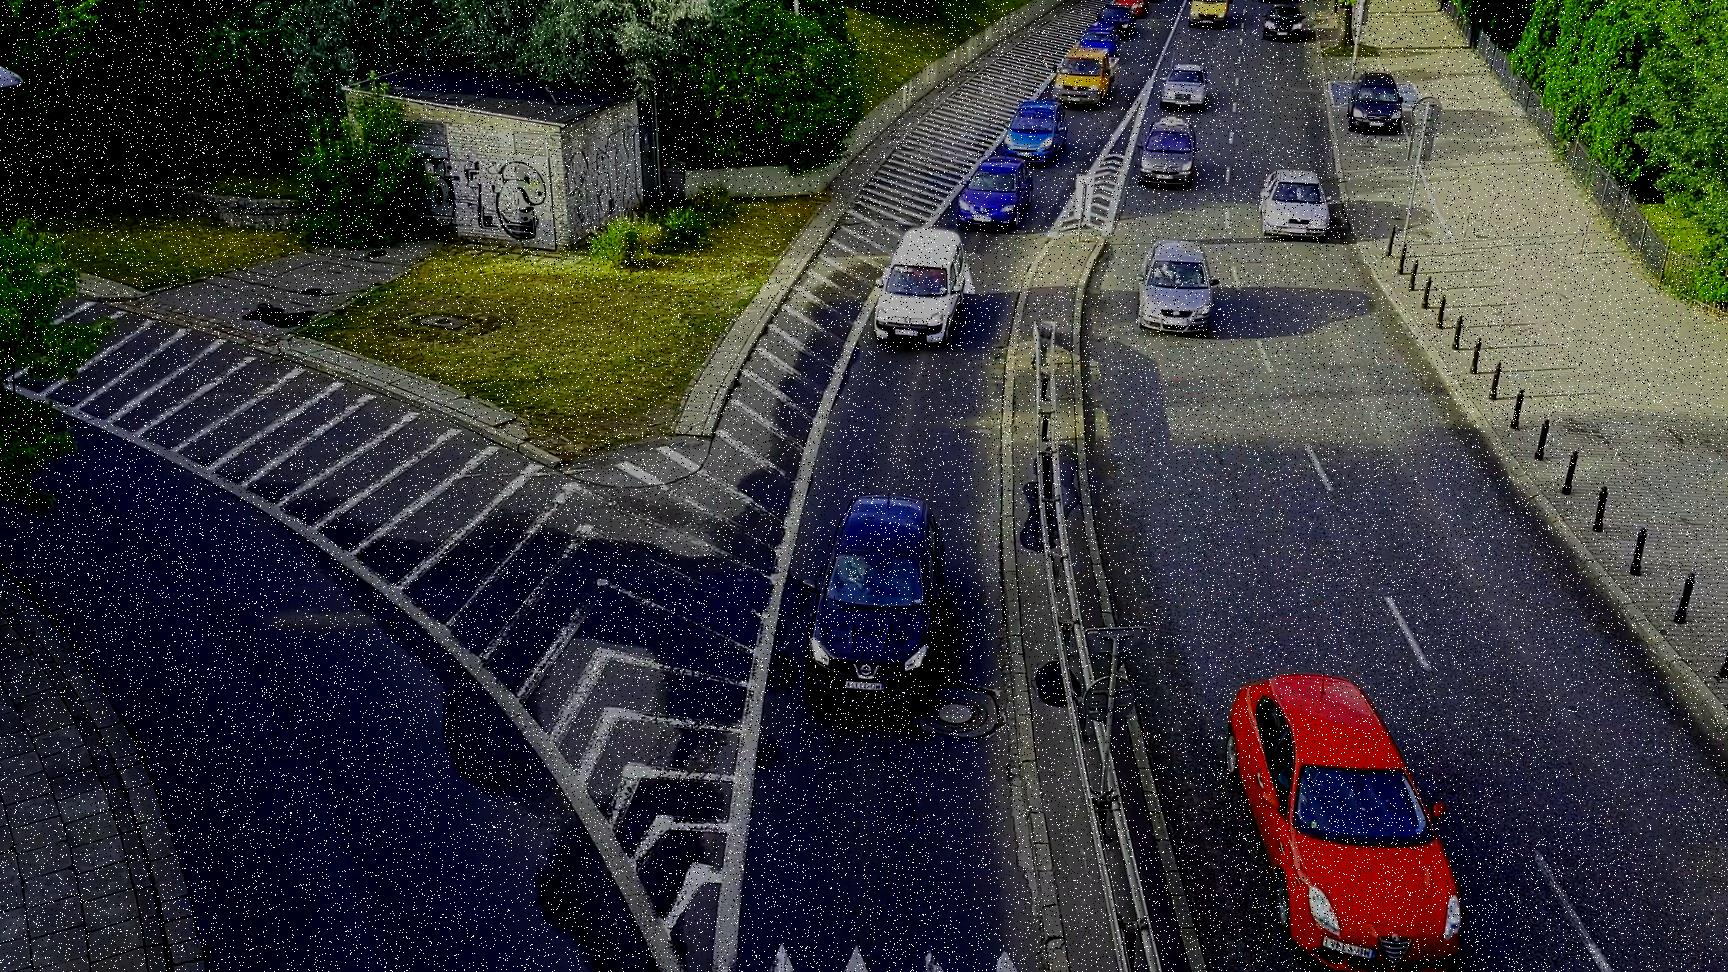car: (798, 496, 944, 718), (871, 224, 980, 348), (1132, 237, 1215, 331), (1247, 163, 1336, 239), (957, 152, 1035, 233), (997, 96, 1076, 172), (1132, 110, 1199, 192), (1343, 59, 1406, 136), (1157, 59, 1208, 109), (1263, 0, 1311, 44), (1098, 1, 1138, 39)
truck: (1227, 660, 1468, 972), (1052, 31, 1125, 115), (1181, 0, 1239, 31)
